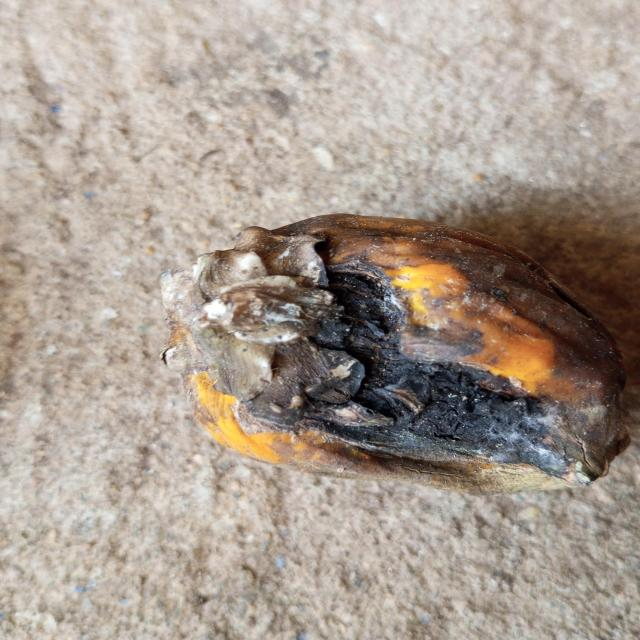damaged: (161, 215, 629, 492)
